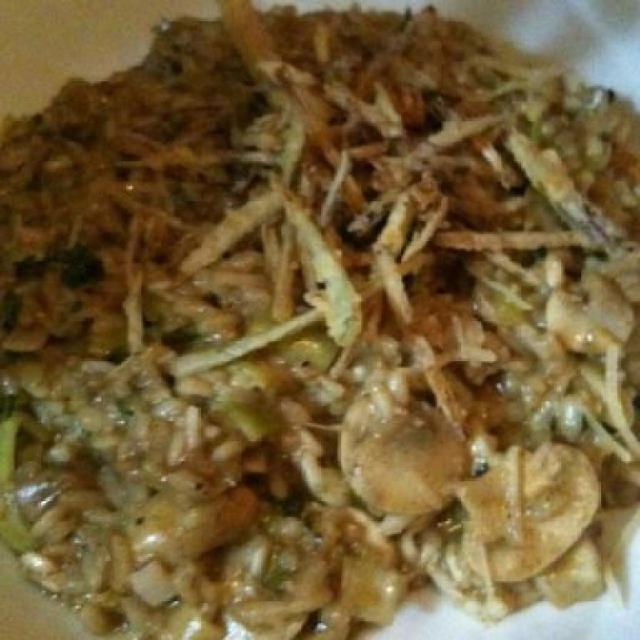Risotto: (10, 18, 627, 634)
